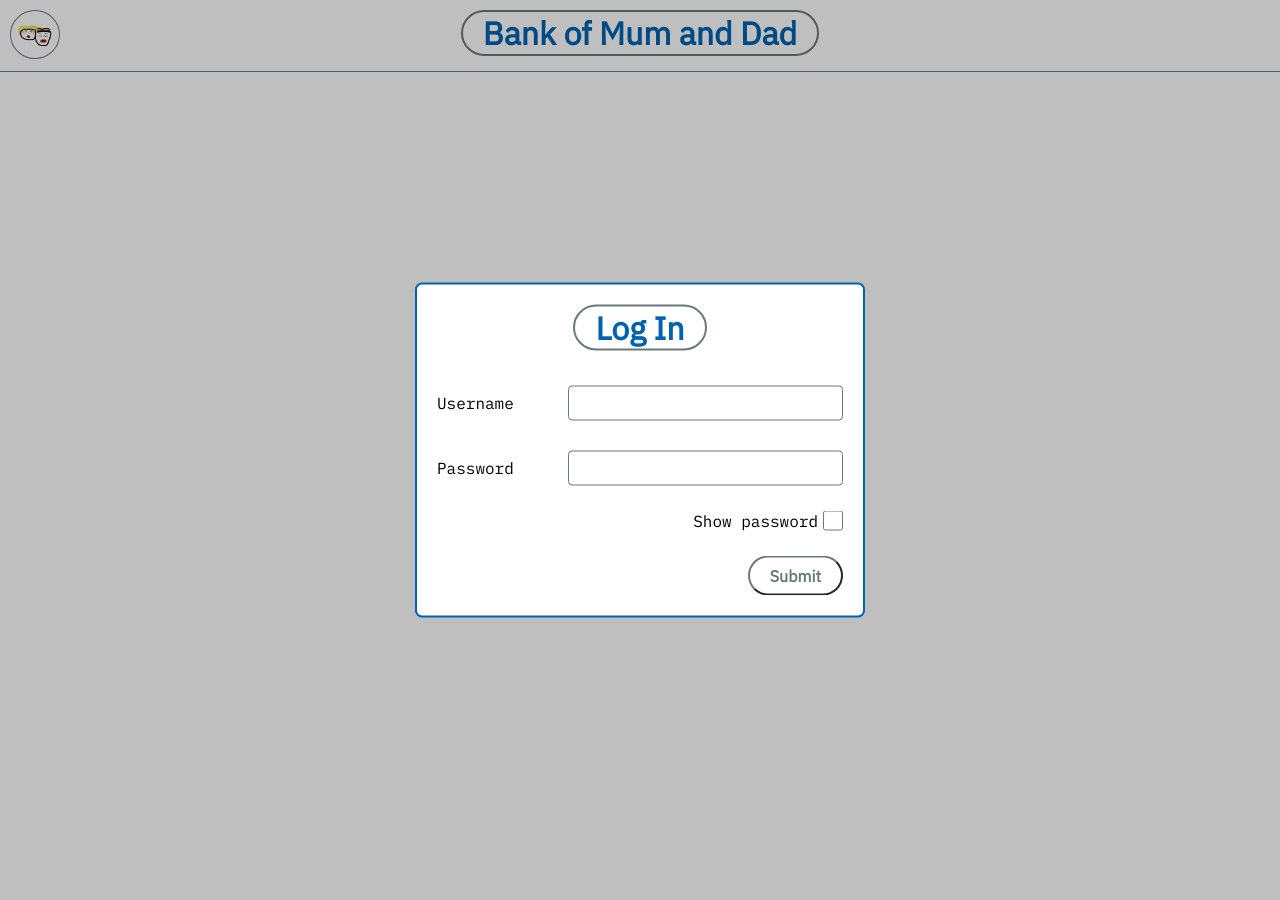
it: app › navigates to accounts page when logged in
Type "username" into the field labelled "Username".
click(706, 403); type("username")  # box [568, 386, 843, 420]
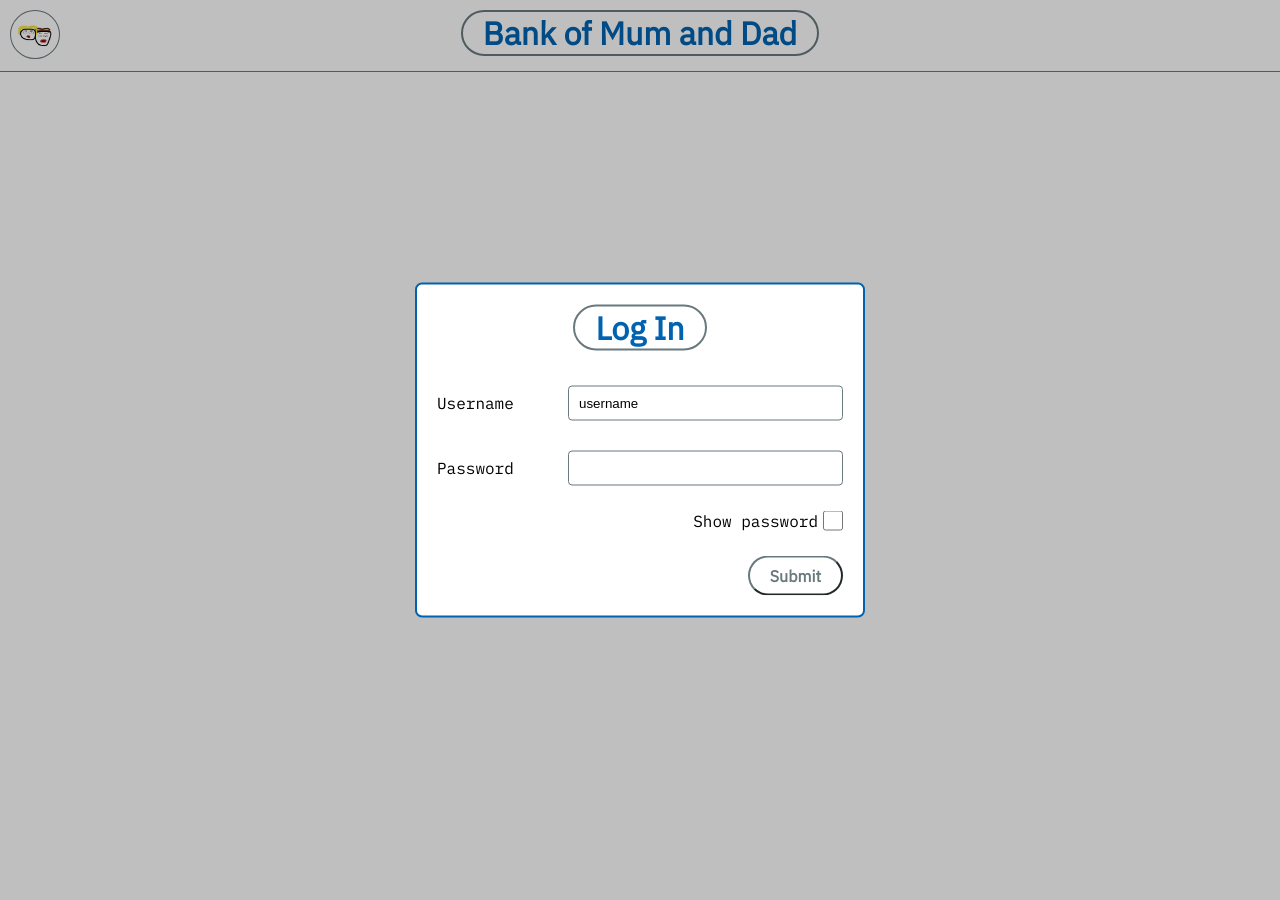
Type "password" into the password field labelled "Password".
click(706, 468); type("password")  # box [568, 450, 843, 486]
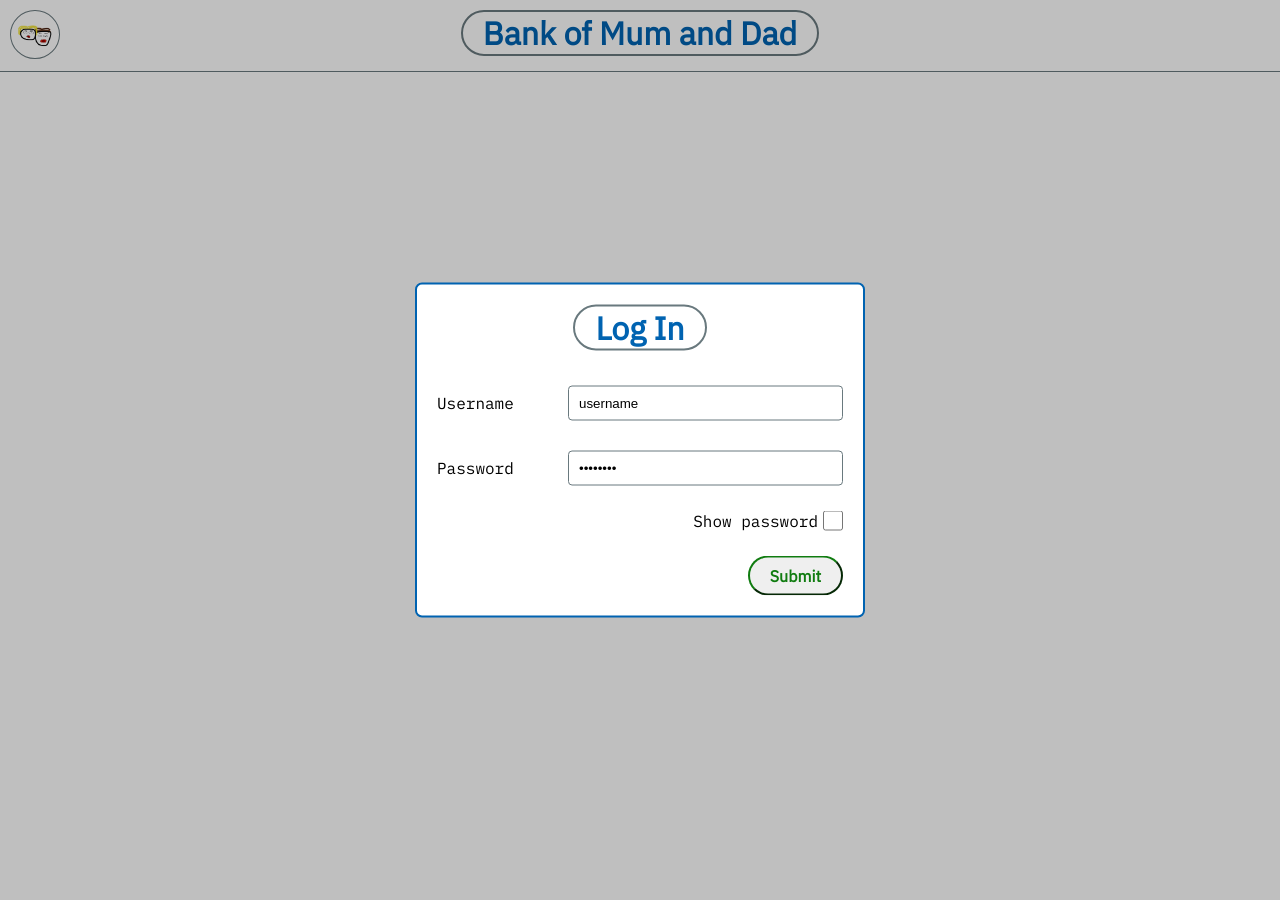
Click the button "Submit".
click(795, 576)  # box [748, 556, 843, 596]
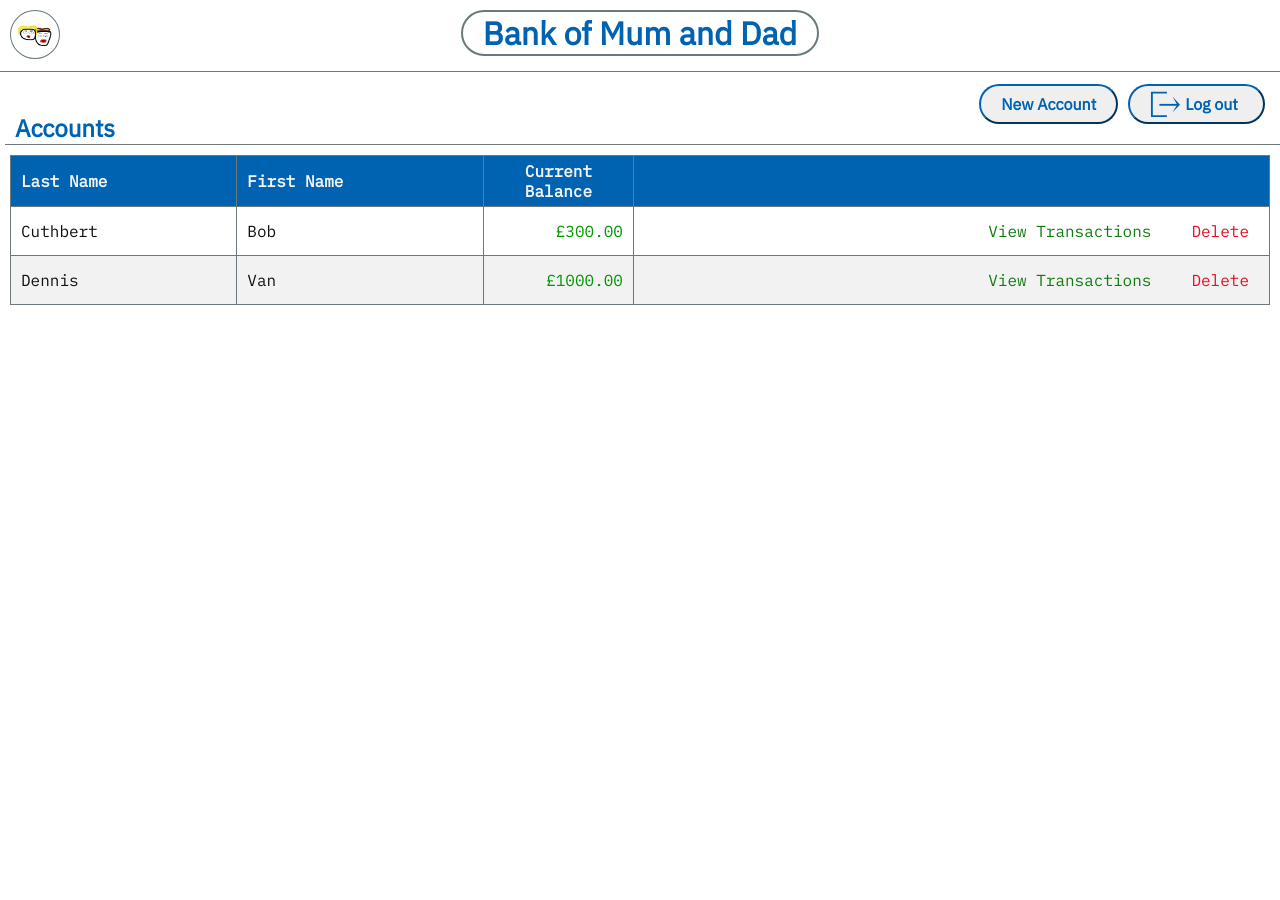
Expected: the heading "Accounts" is shown, [15, 112, 115, 144]
